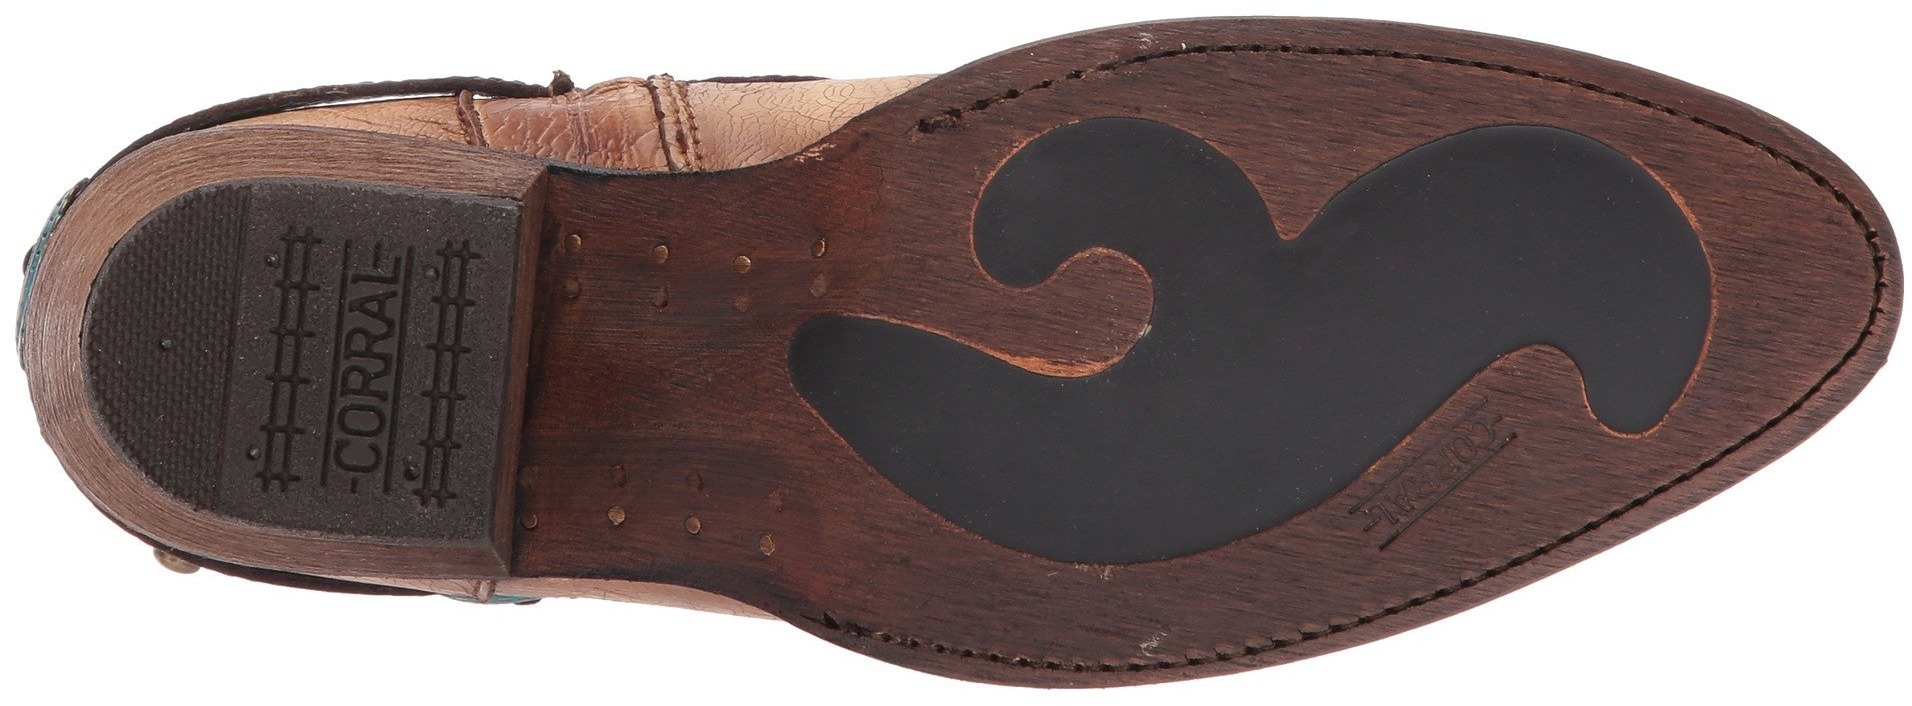circle: (332, 394, 388, 445), (144, 326, 196, 361)
line: (406, 328, 489, 412), (248, 313, 328, 398)
other: (1154, 240, 1379, 455), (1424, 148, 1638, 354), (960, 374, 1136, 541), (1719, 210, 1857, 344), (1244, 59, 1374, 178), (1029, 132, 1152, 252), (106, 289, 226, 401)
quad: (406, 328, 489, 412), (248, 313, 328, 398)
text: (328, 322, 406, 401), (321, 399, 398, 478), (337, 250, 408, 328)
